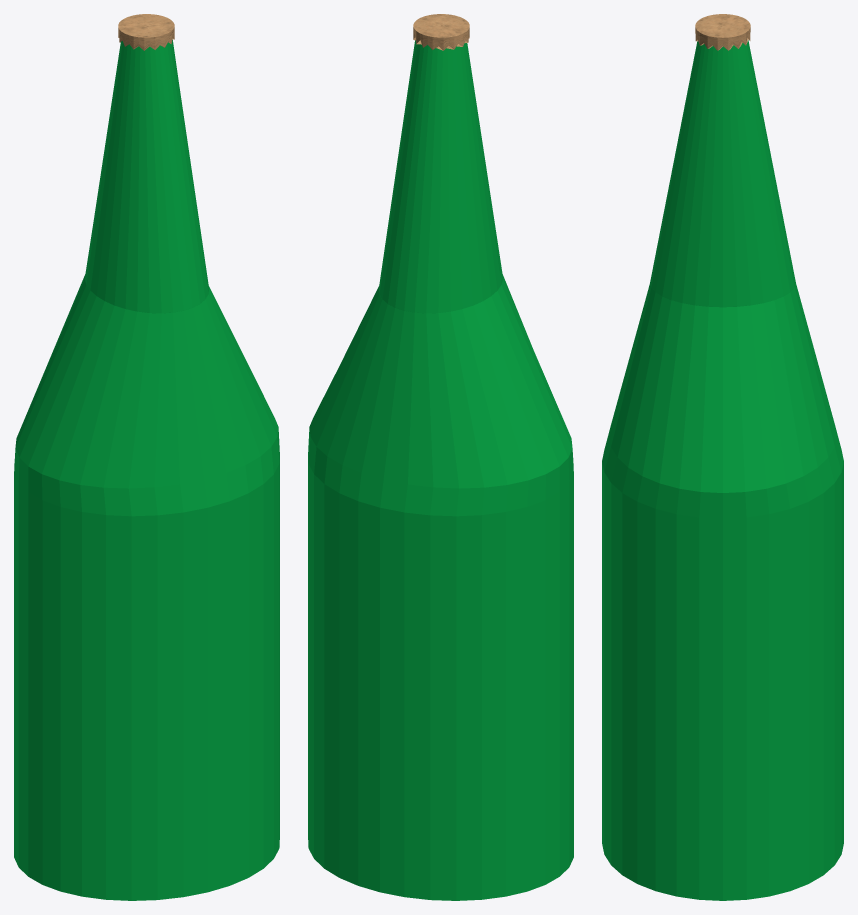
The model's file is Garrafa1.fbx.
The picture shows the model from 3 angles, left to right: view 1: azimuth 30°, elevation 25°; view 2: azimuth 150°, elevation 25°; view 3: azimuth 270°, elevation 25°; orthographic projection.
Visible parts, largest first — view 1: Cylinder.002, Cylinder, Cylinder.001; view 2: Cylinder.002, Cylinder, Cylinder.001; view 3: Cylinder.002, Cylinder, Cylinder.001.
Part boxes in pixels (<box>): Cylinder.002: <box>14,274,279,900</box>; Cylinder: <box>85,40,208,313</box>; Cylinder.001: <box>118,14,174,50</box>; Cylinder.002: <box>308,274,573,900</box>; Cylinder: <box>379,40,502,313</box>; Cylinder.001: <box>413,14,469,50</box>; Cylinder.002: <box>602,283,843,900</box>; Cylinder: <box>650,40,795,307</box>; Cylinder.001: <box>695,14,750,50</box>.
Bounding box in the file's own units: 57.2 × 189 × 50.81.
3 materials, 1 textured.
